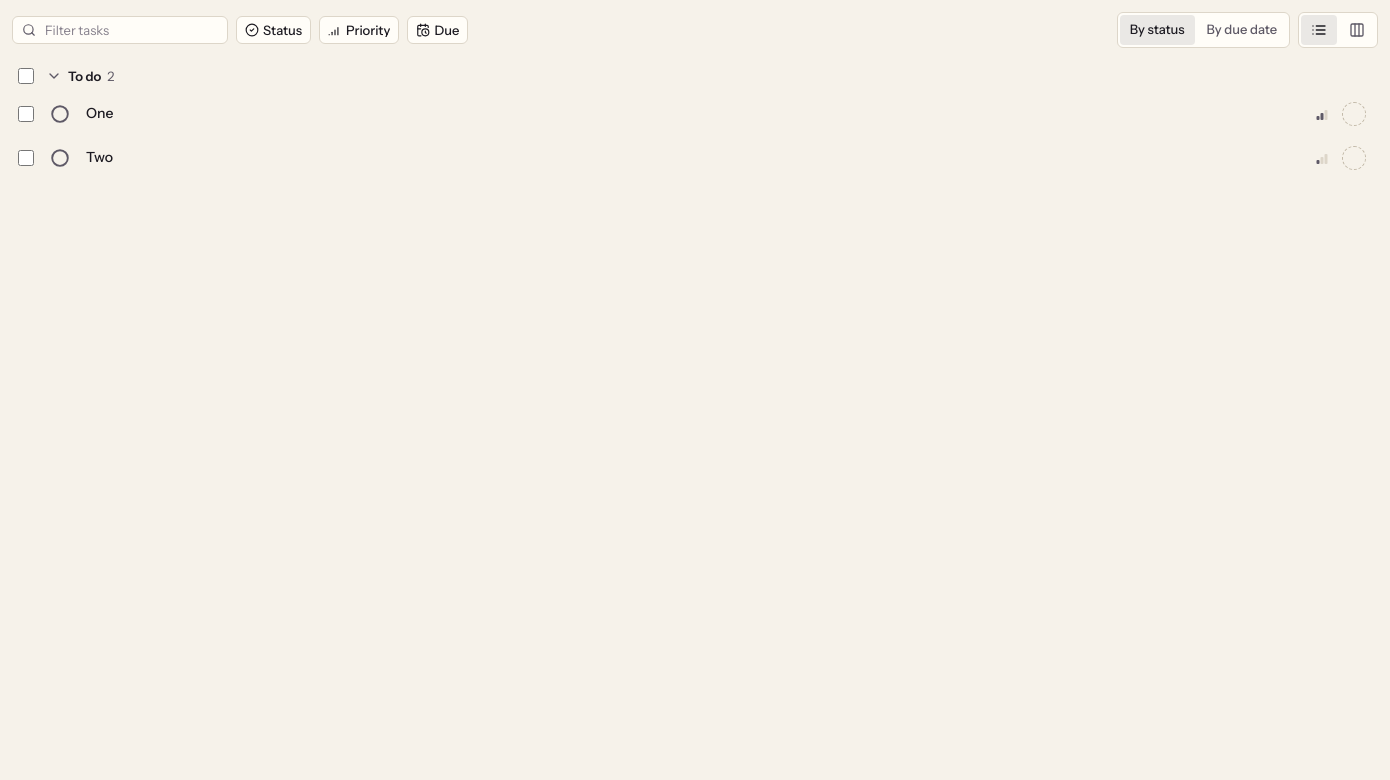
Test: BulkActionBar › shows a danger toast when the request fails
Click the checkbox named "Select “One”": (26, 114) [18,106,34,122]
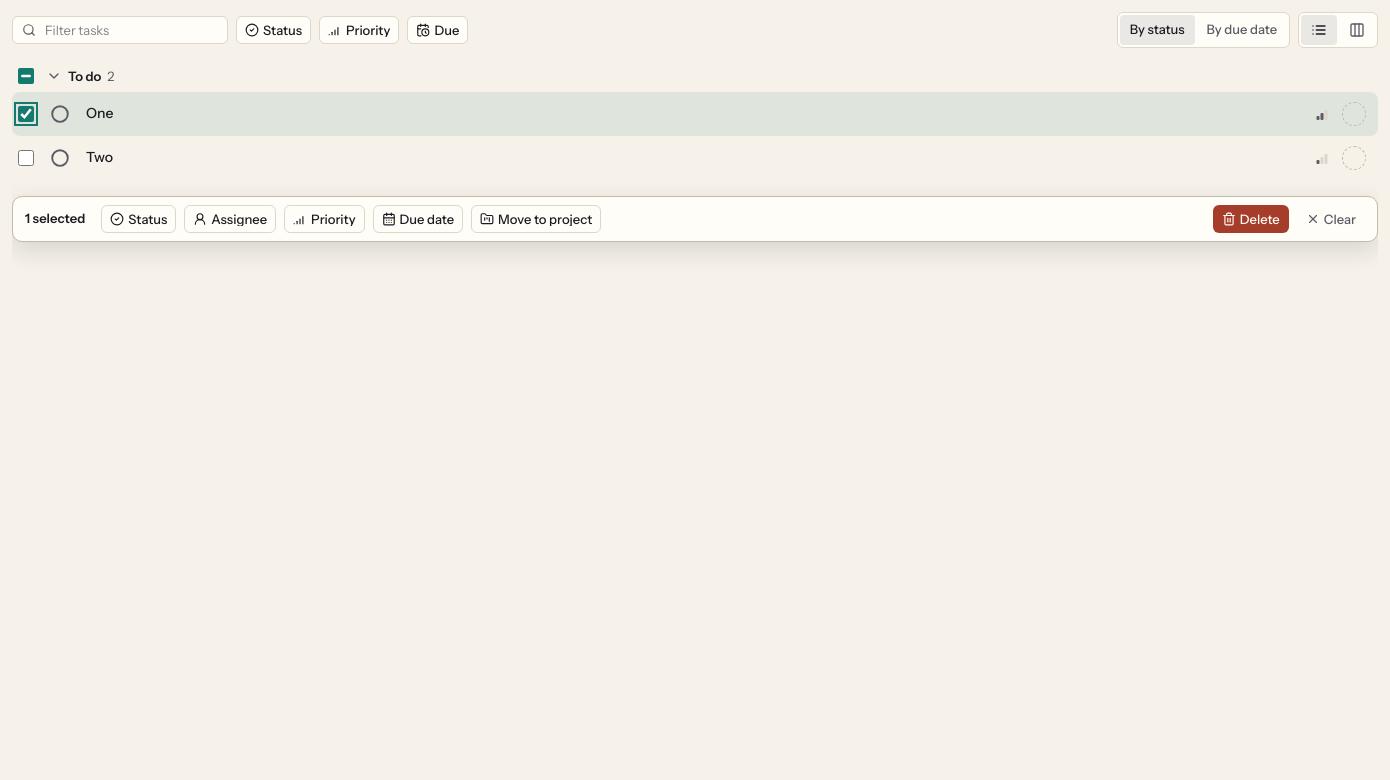
Click the checkbox named "Select “Two”": (26, 158) [18,150,34,166]
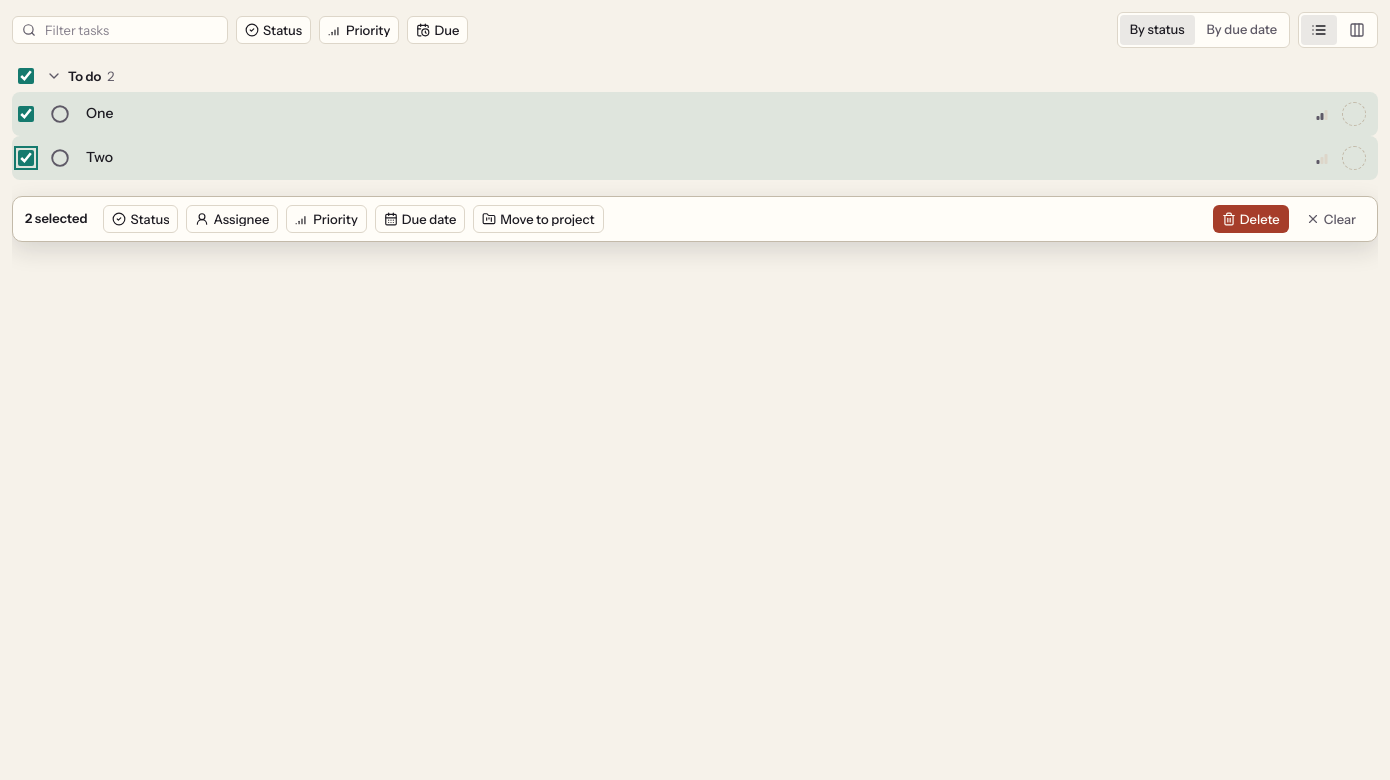
Click the button "Move to project": (538, 219) [473,205,604,233]
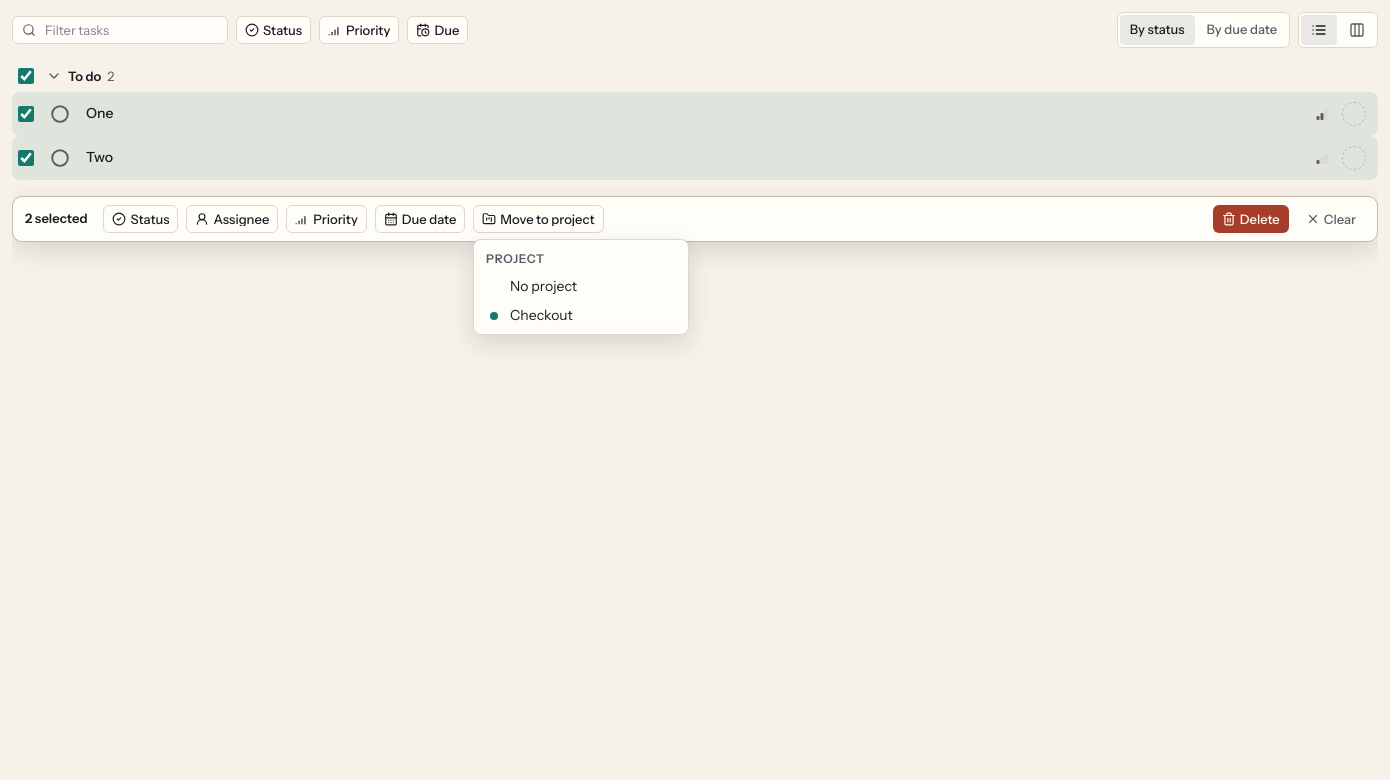
Click the menu item "Checkout": (531, 315) [490,306,573,324]
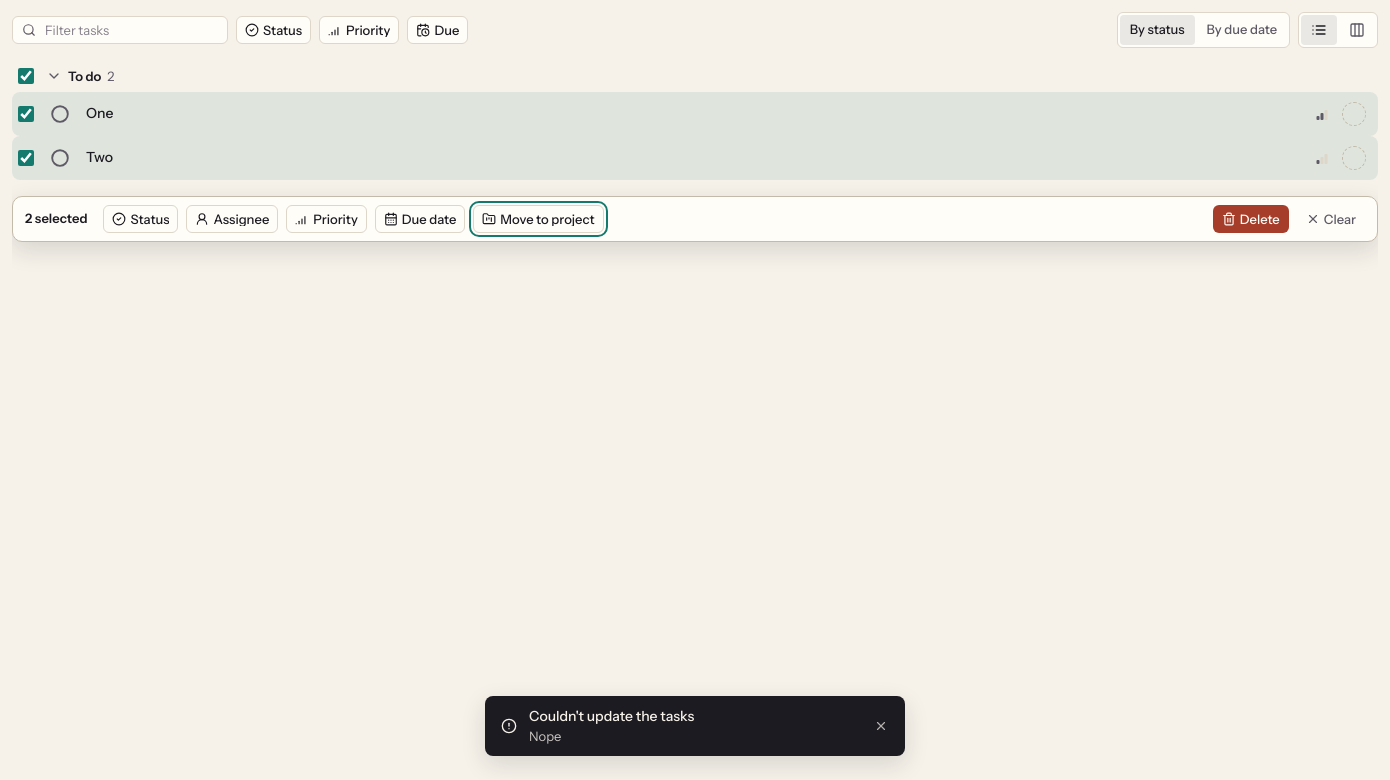
Result: the text "Couldn't update the tasks" is shown at [529,706,694,724]
Result: the text "Nope" is shown at [529,728,561,744]
